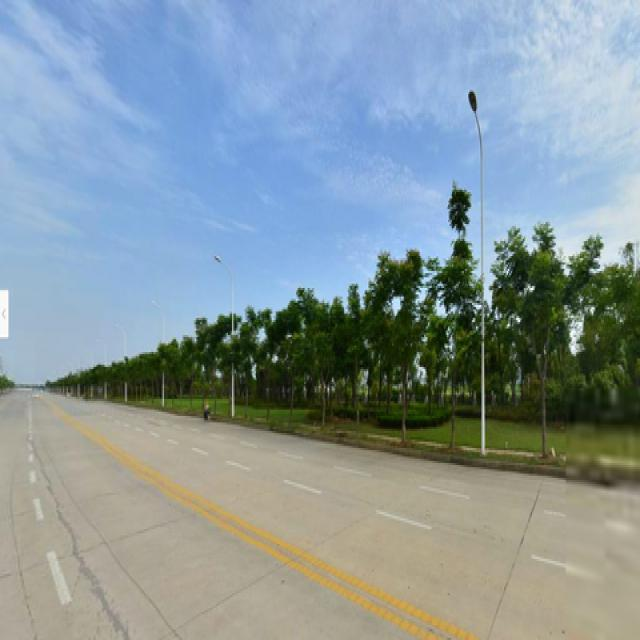koel: (436, 233, 475, 450), (380, 262, 421, 440)
